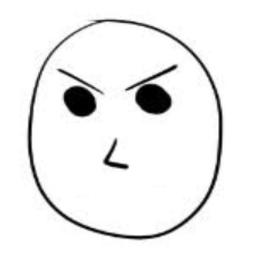eye: (133, 81, 174, 117), (61, 84, 98, 120)
frowning_eyebrow: (125, 61, 181, 93), (57, 64, 106, 95)
pointy_nose: (99, 137, 133, 173)
